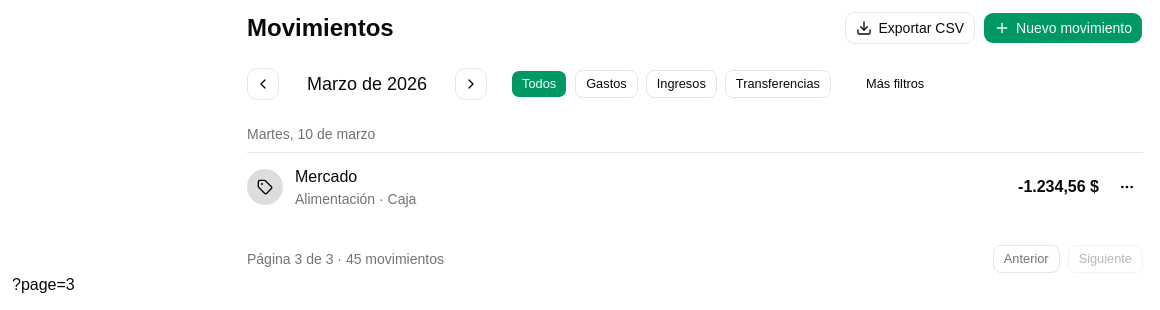
TransactionsPage › period and filters › a type filter goes to the request and the URL, and resets the page to 1
Expected: the text "Mercado" is shown, [295,165,357,189]
Expected: the radio button labelled "Todos" is checked, [511,70,567,98]
Click the radio button labelled "Gastos".
click(606, 84)  # box [575,70,638,98]
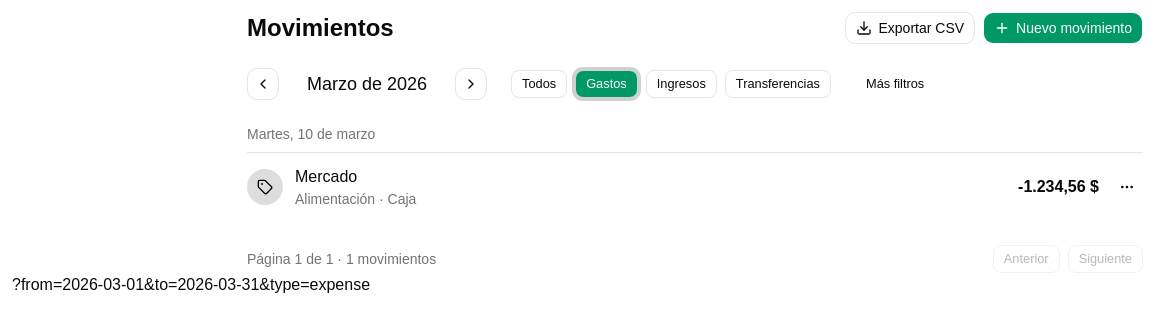
Result: the text with test id "where" shows "type=expense" at [12,276,370,293]
Result: the text with test id "where" no longer shows "page="
